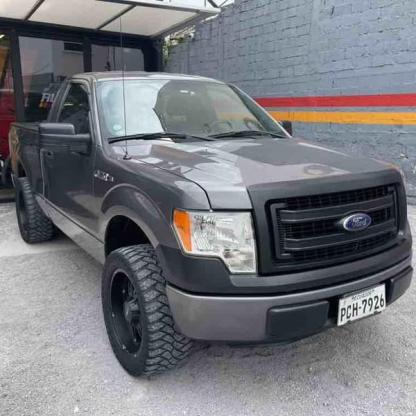Placa: (335, 286, 387, 326)
